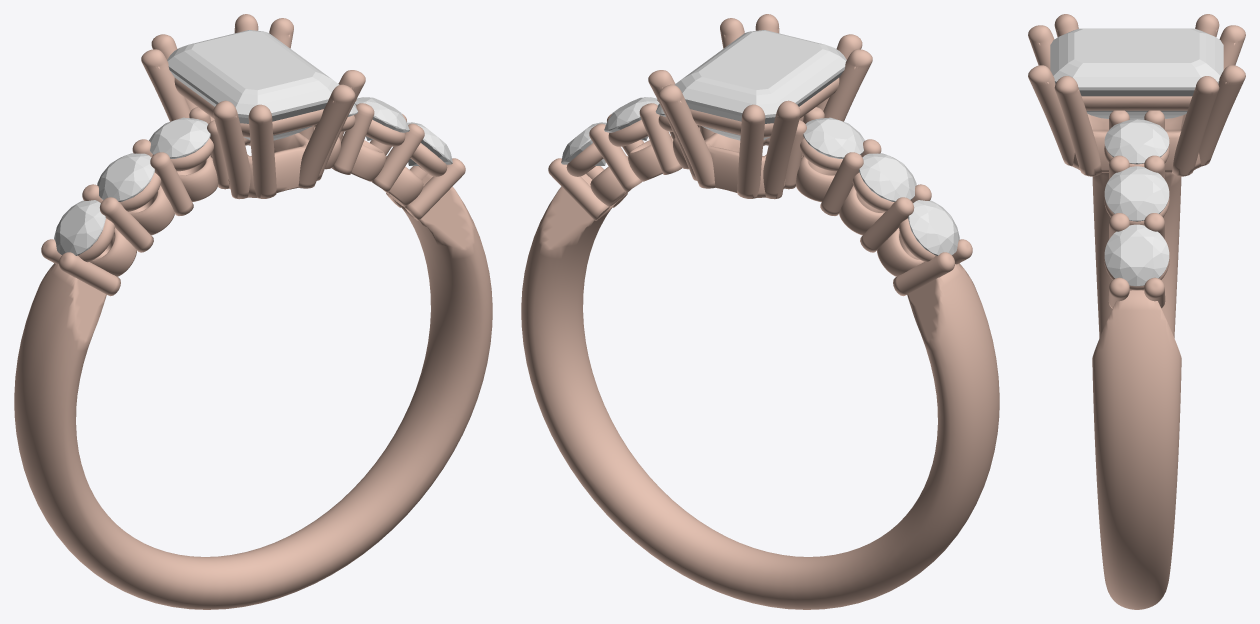
Rendered from diamond-emerald-rosegold-8prong-taperedband-7stone.glb.
The picture shows the model from 3 angles, left to right: view 1: azimuth 30°, elevation 25°; view 2: azimuth 150°, elevation 25°; view 3: azimuth 270°, elevation 25°; orthographic projection.
Visible parts, largest first — view 1: metal.001, stone, side, side.001, side.002, side.004, side.005; view 2: metal.001, stone, side, side.001, side.002, side.004, side.005; view 3: metal.001, stone, side.005, side.004, side.003.
Boxes of the visible parts, x1=… form: metal.001: x1=14, y1=14, x2=492, y2=609; stone: x1=167, y1=30, x2=339, y2=140; side: x1=54, y1=200, x2=105, y2=255; side.001: x1=97, y1=153, x2=154, y2=201; side.002: x1=149, y1=117, x2=210, y2=158; side.004: x1=354, y1=97, x2=409, y2=140; side.005: x1=407, y1=122, x2=452, y2=165; metal.001: x1=521, y1=14, x2=999, y2=609; stone: x1=674, y1=30, x2=846, y2=140; side: x1=908, y1=200, x2=959, y2=255; side.001: x1=859, y1=153, x2=916, y2=201; side.002: x1=803, y1=117, x2=864, y2=158; side.004: x1=604, y1=97, x2=659, y2=140; side.005: x1=561, y1=122, x2=606, y2=165; metal.001: x1=1028, y1=14, x2=1245, y2=609; stone: x1=1050, y1=28, x2=1223, y2=119; side.005: x1=1104, y1=224, x2=1169, y2=286; side.004: x1=1104, y1=166, x2=1169, y2=221; side.003: x1=1104, y1=119, x2=1169, y2=164.
Bounding box in the file's own units: 20.49 × 22.94 × 8.4.
